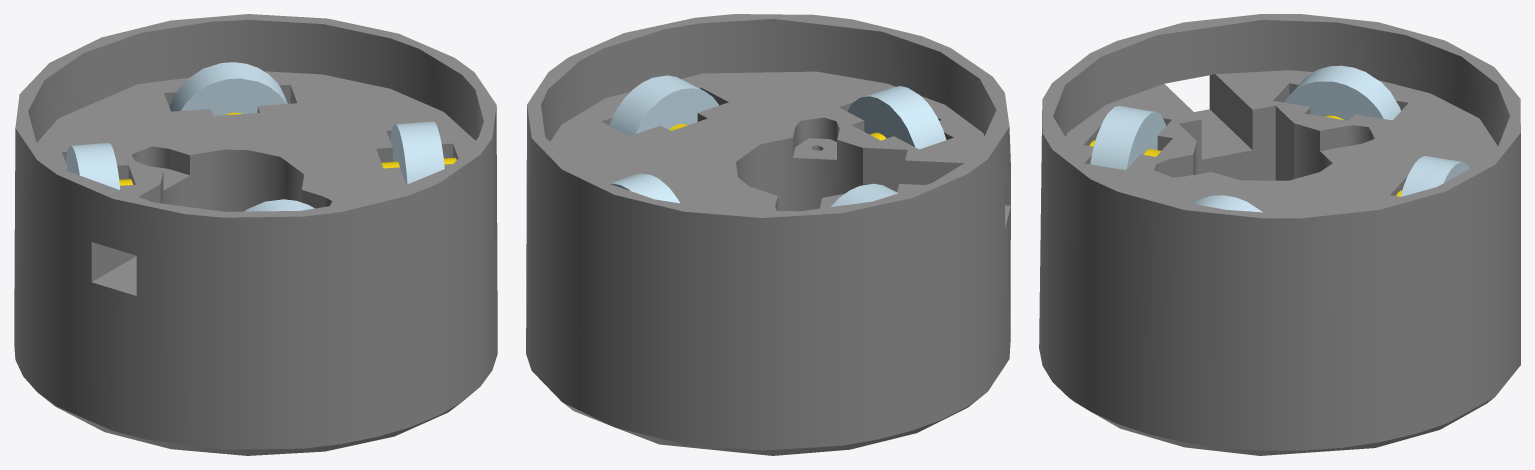
3 renders of one model, left to right at view 1: azimuth 30°, elevation 25°; view 2: azimuth 150°, elevation 25°; view 3: azimuth 270°, elevation 25°, orthographic.
Parts seen in each view (by area): view 1: base; view 2: base; view 3: base.
Part boxes in pixels (x1,y1,x2,y2): base: (14, 14, 497, 455); base: (526, 14, 1010, 455); base: (1039, 14, 1520, 455).
Bounding box in the file's own units: 0.0867 × 0.048 × 0.0864.
